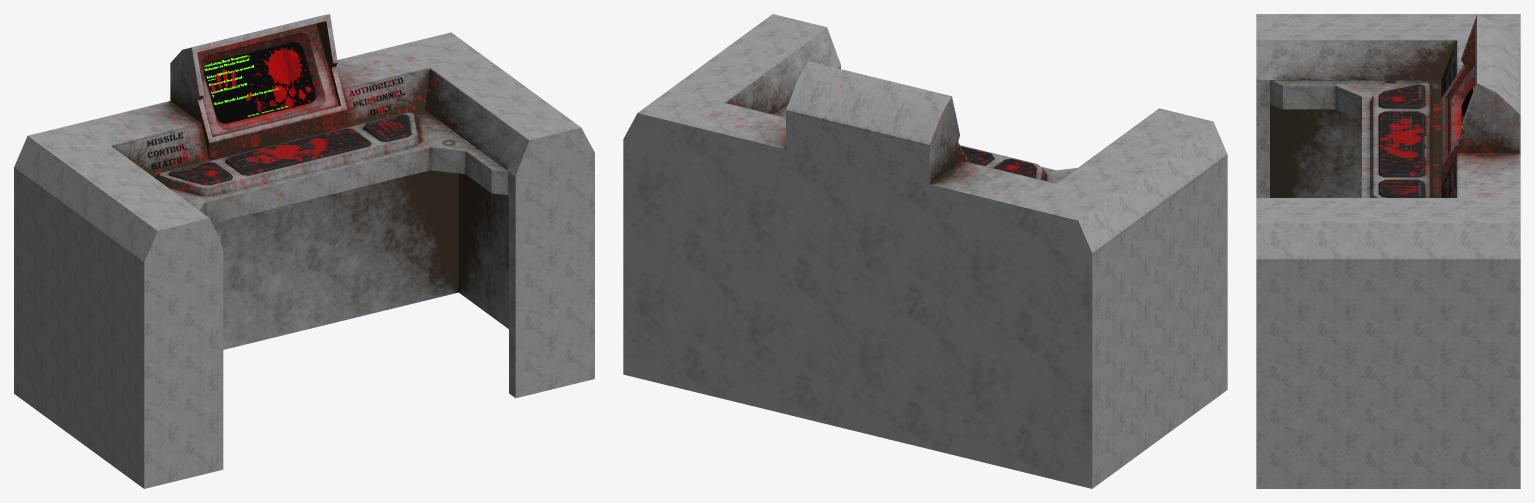
The model's file is control_station.glb.
3 renders of one model, left to right at view 1: azimuth 30°, elevation 25°; view 2: azimuth 150°, elevation 25°; view 3: azimuth 270°, elevation 25°, orthographic. The views are drawn at different scales.
Visible parts, largest first — view 1: Computer; view 2: Computer; view 3: Computer.
Boxes of the visible parts, x1,y1,x2,y2 form: Computer: (14, 14, 594, 488); Computer: (623, 14, 1227, 488); Computer: (1256, 14, 1520, 488).
Bounding box in the file's own units: 437 × 300 × 219.
Materials: 2 (2 with a texture image).
